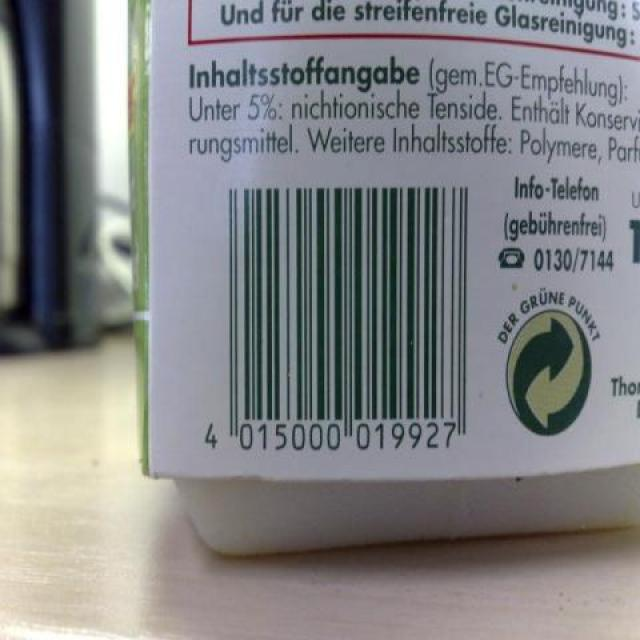Barcode: (197, 175, 486, 465)
